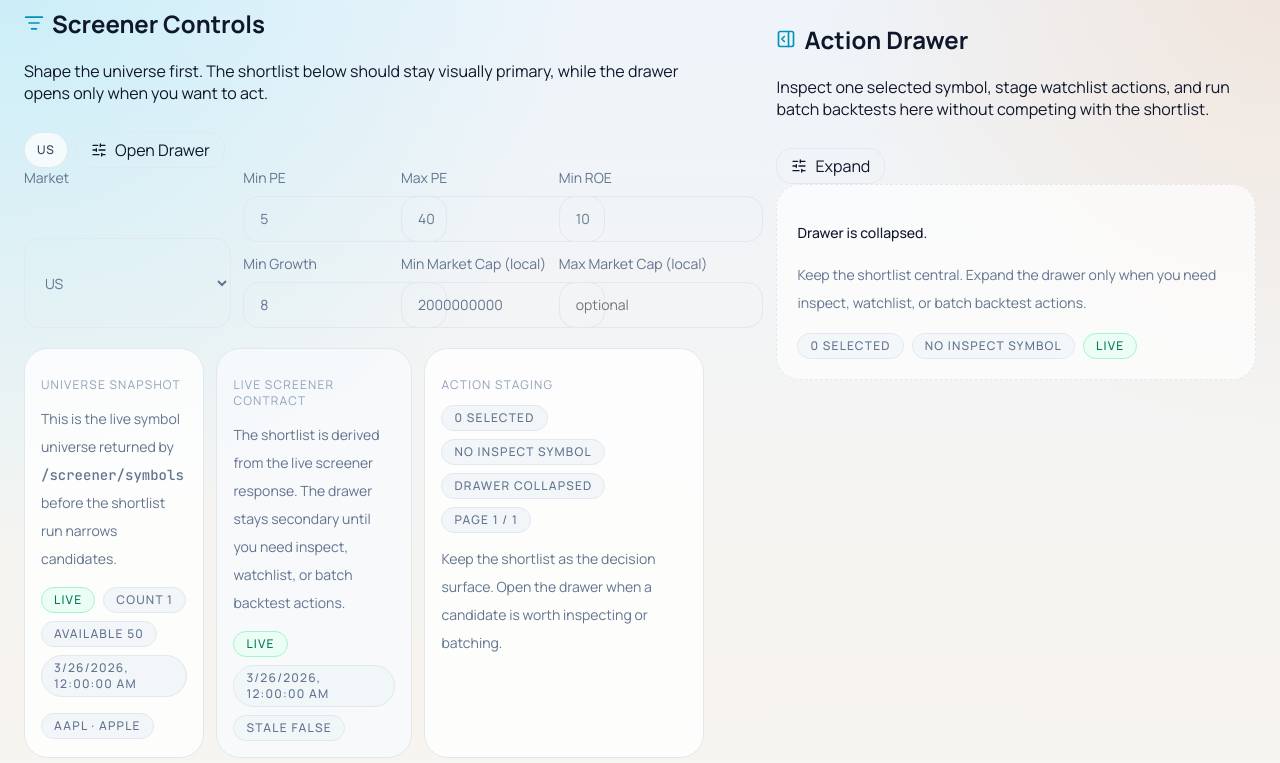
Test case: ScreenerPage › tracks async batch backtest tasks and fills the snapshot from completed lab payloads
Click the button "Expand".
click(831, 166)  # box [776,148,885,184]
(page scrolled)
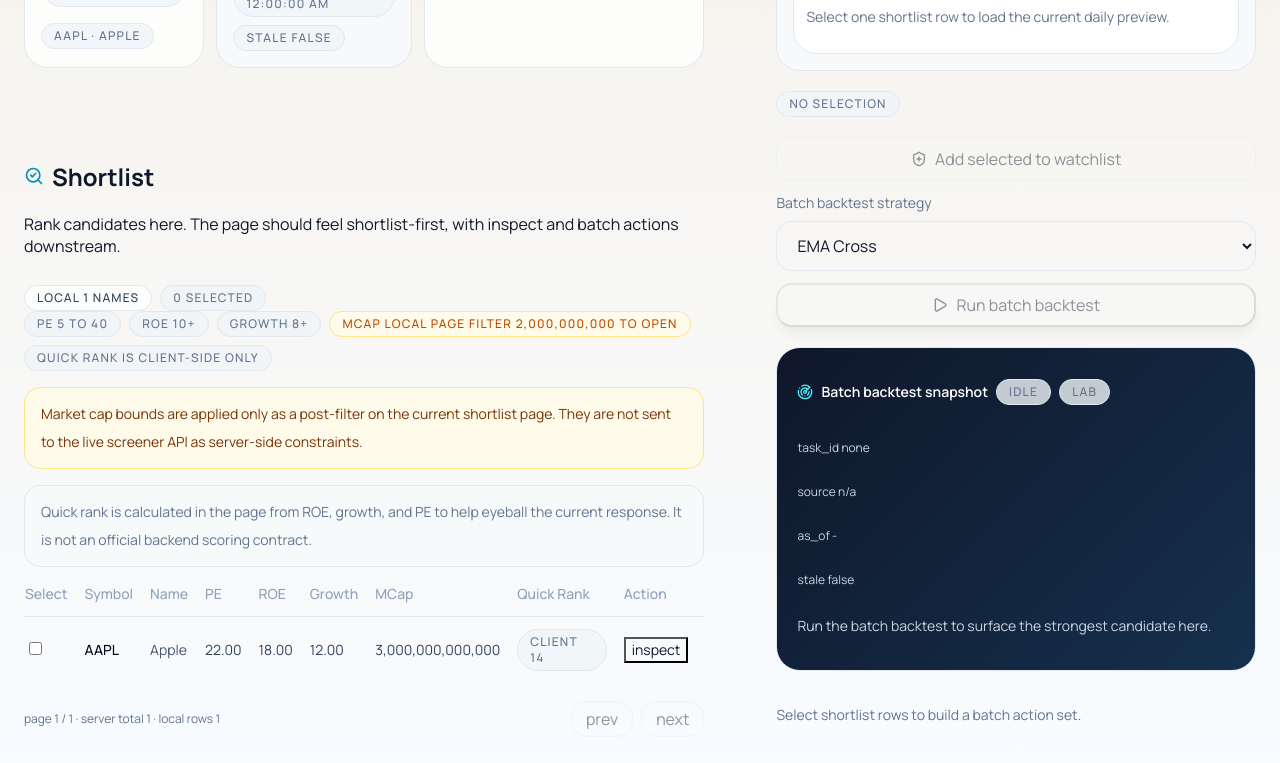
Click the checkbox.
click(36, 649)  # box [29,642,42,655]
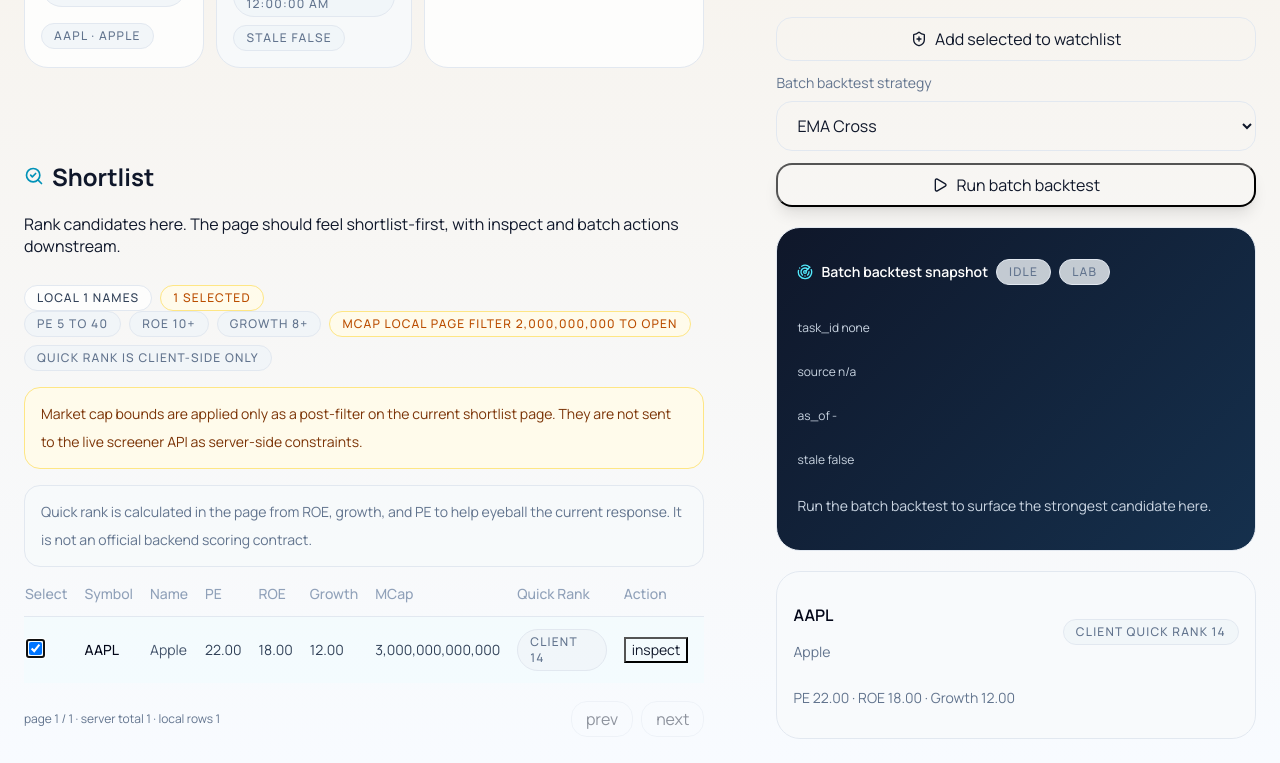
Click the button "Run batch backtest".
click(1016, 185)  # box [776,163,1256,207]
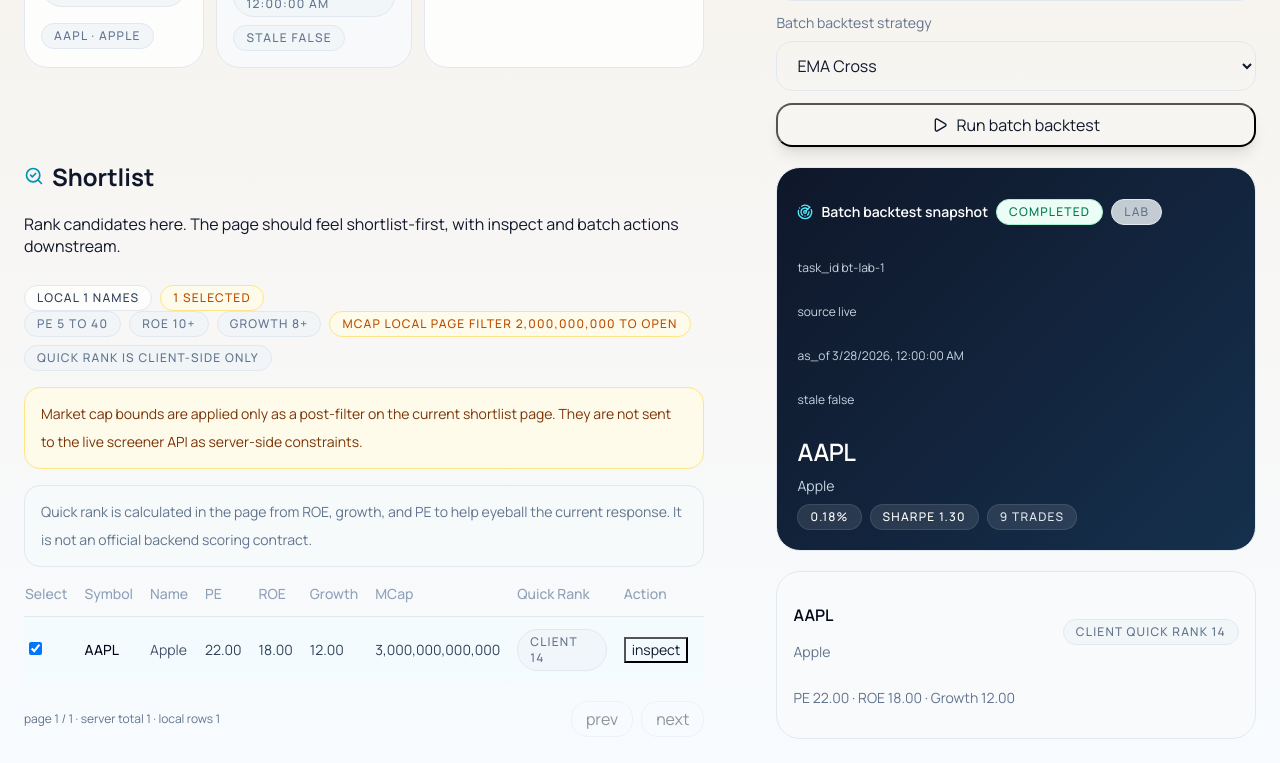
expect the text "task_id bt-lab-1" is shown: met, box [798,259,885,276]
expect the text "completed" is shown: met, box [996,199,1103,225]
expect the text "9 trades" is shown: met, box [987,504,1077,530]
